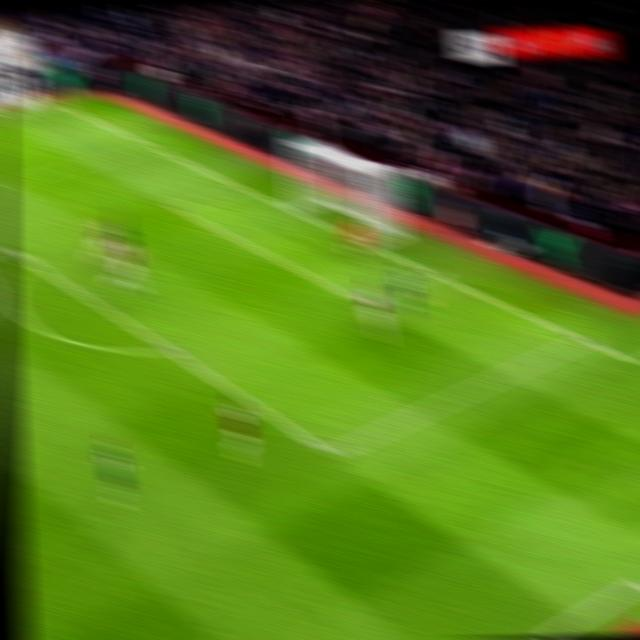bigarea_bottom_inner: (314, 436, 349, 469)
bigarea_bottom_outter: (569, 327, 599, 352)
bigarea_top_outter: (140, 136, 168, 158)
bottom_arc_area_intersection: (153, 333, 188, 364)
corner: (42, 92, 73, 112)
smallarea_bottom_inner: (346, 285, 376, 314)
smallarea_bottom_outter: (416, 258, 447, 283)
smallarea_top_inner: (162, 195, 194, 220)
smallarea_top_outter: (229, 174, 260, 201)
top_arc_area_intersection: (11, 247, 44, 274)
